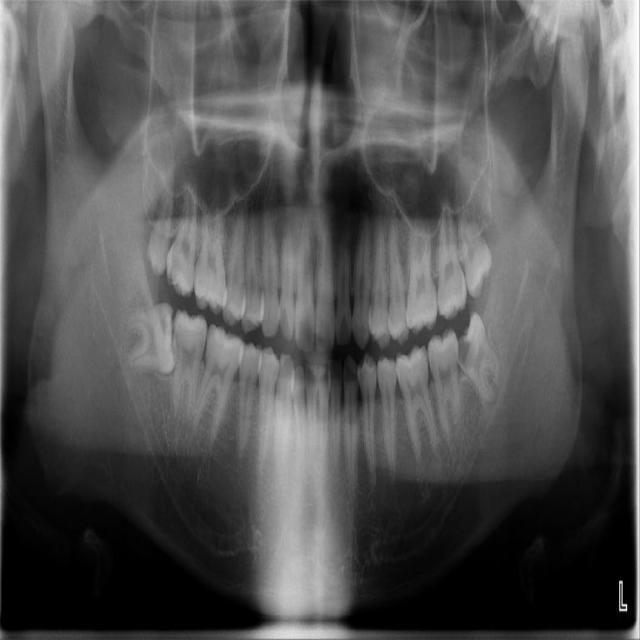Caries: (457, 338, 469, 367)
impacted tooth: (451, 313, 504, 399), (448, 191, 490, 296), (118, 305, 178, 378), (146, 188, 177, 277)
